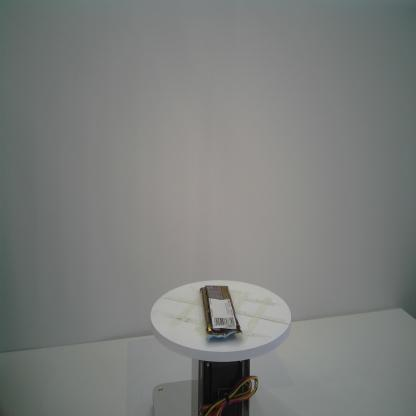Chocolate: (200, 283, 244, 340)
